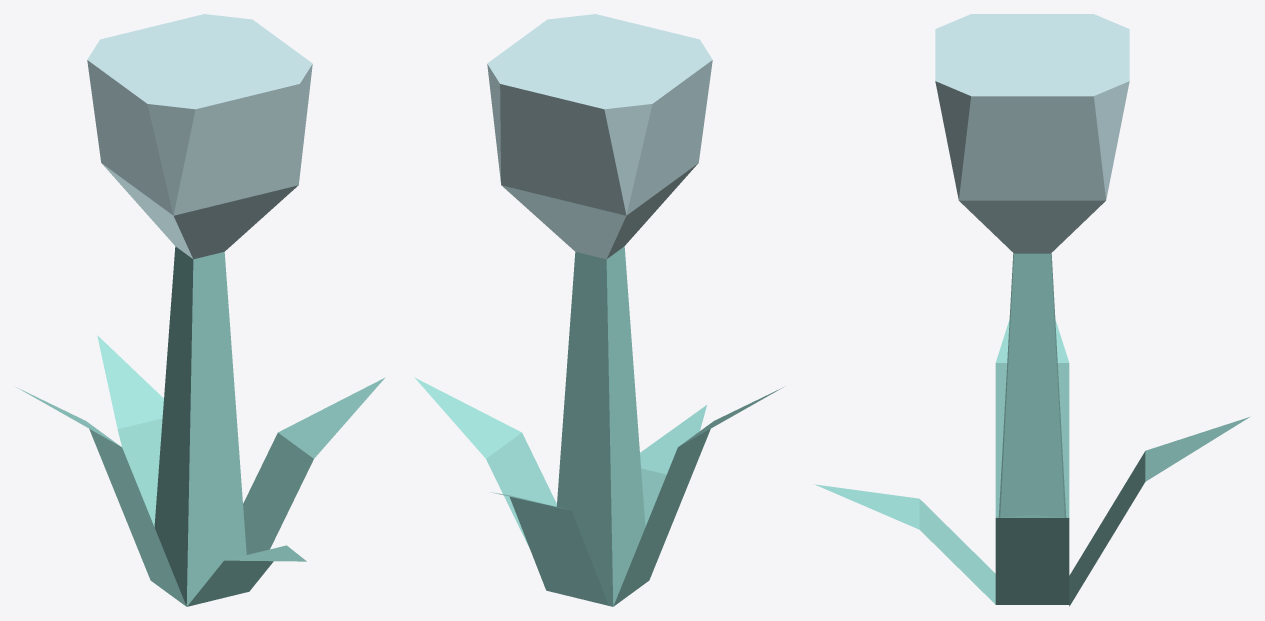
The model's file is flower_blue1.glb.
3 renders of one model, left to right at view 1: azimuth 30°, elevation 25°; view 2: azimuth 150°, elevation 25°; view 3: azimuth 270°, elevation 25°, orthographic.
Visible parts, largest first — view 1: flower_blue1; view 2: flower_blue1; view 3: flower_blue1.
Part boxes in pixels (x1,y1,x2,y2): flower_blue1: (16, 14, 385, 606); flower_blue1: (414, 14, 783, 606); flower_blue1: (814, 14, 1250, 606).
Size of the model in its own units: 0.2076 by 0.28 by 0.2076.
